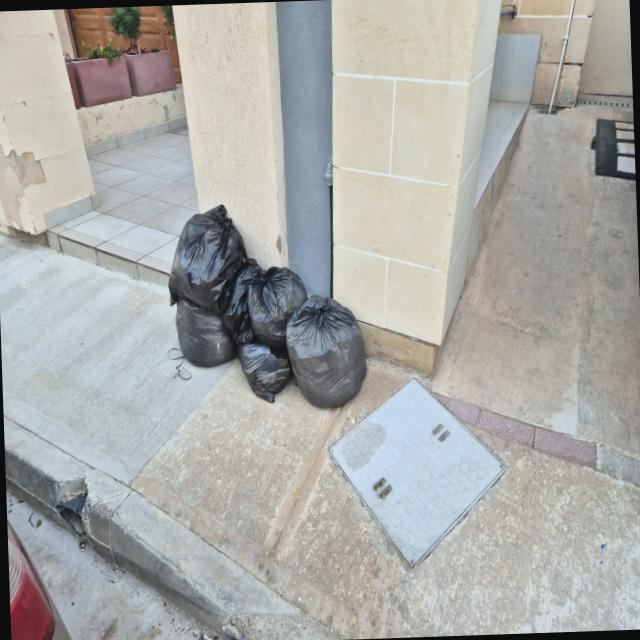black_bag: (158, 190, 255, 305), (293, 287, 372, 420), (234, 255, 326, 341), (227, 326, 312, 397), (172, 296, 236, 372)
